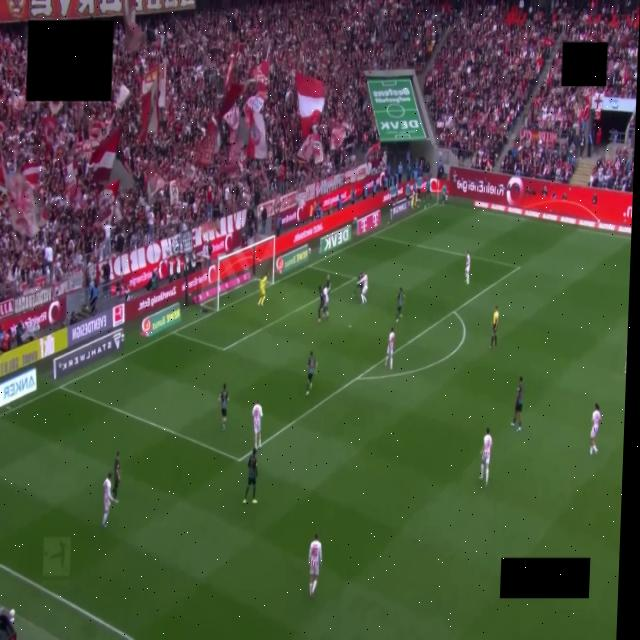player: (307, 534, 323, 598), (242, 448, 257, 503), (102, 472, 116, 527), (479, 428, 492, 486), (511, 376, 523, 431), (589, 404, 600, 455), (305, 352, 316, 395), (252, 402, 262, 448), (218, 384, 227, 430), (384, 328, 394, 369), (113, 452, 120, 499), (258, 272, 267, 306), (358, 272, 367, 303), (395, 288, 403, 321), (317, 286, 324, 323), (352, 272, 362, 297), (322, 279, 328, 319), (465, 251, 469, 285), (324, 275, 330, 292), (624, 344, 626, 374)
referee: (489, 305, 498, 348)
